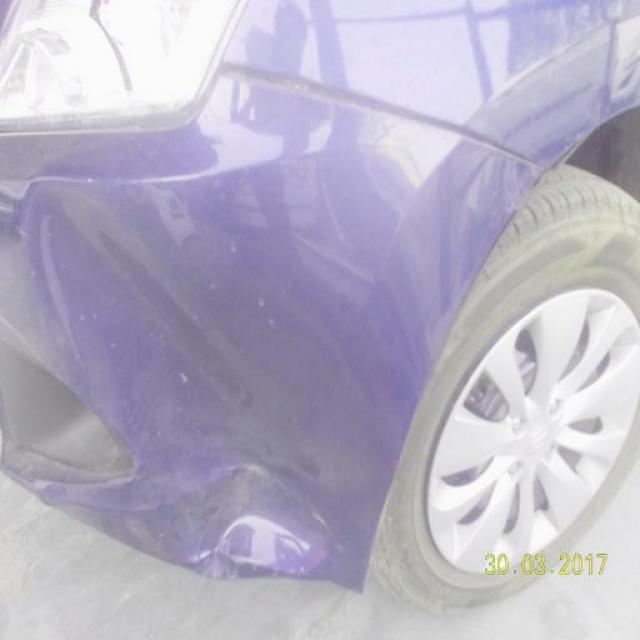car damage: (197, 448, 339, 585)
